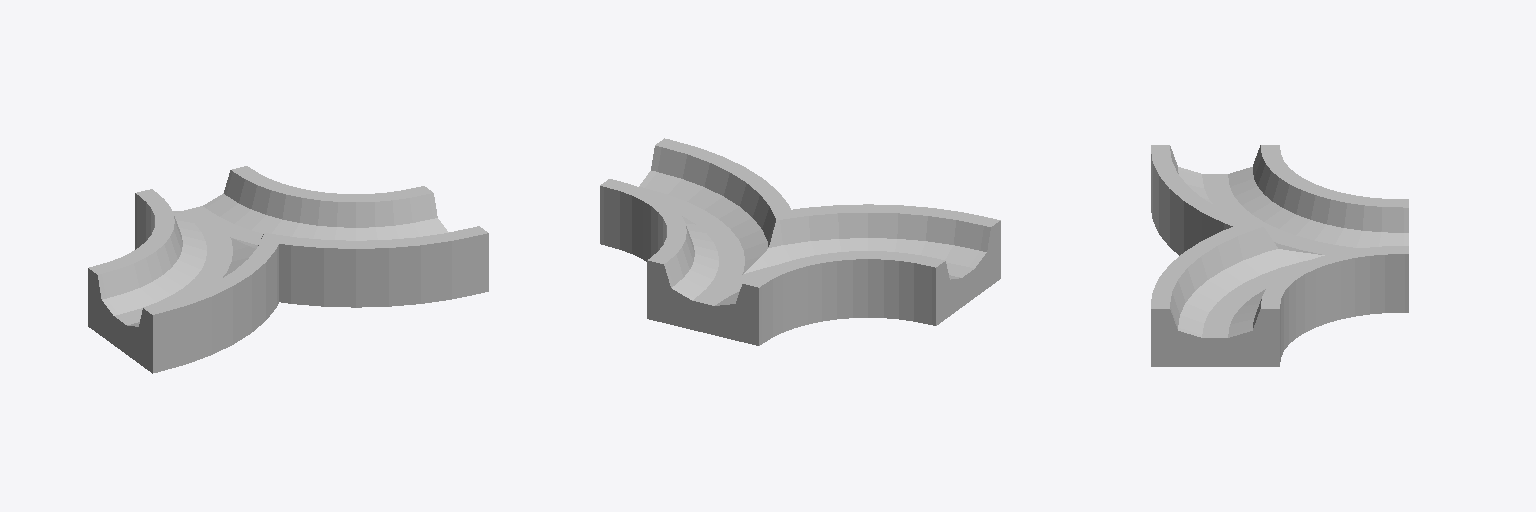
The model's file is split-double-sides.obj.
3 renders of one model, left to right at view 1: azimuth 30°, elevation 25°; view 2: azimuth 150°, elevation 25°; view 3: azimuth 270°, elevation 25°, orthographic.
Visible parts, largest first — view 1: split-double-sides; view 2: split-double-sides; view 3: split-double-sides.
Part boxes in pixels (x1,y1,x2,y2): split-double-sides: (88, 166, 488, 373); split-double-sides: (600, 138, 1000, 345); split-double-sides: (1151, 145, 1408, 366).
Size of the model in its own units: 3 by 0.5 by 2.